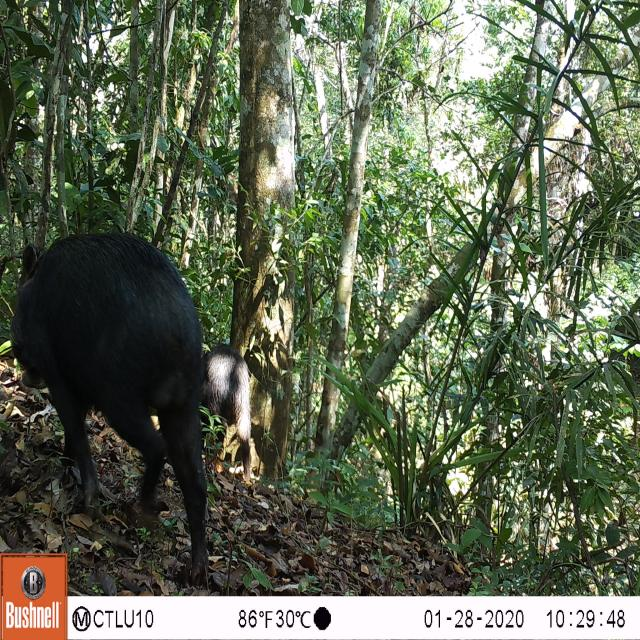White-lipped Peccary: (3, 216, 257, 550)
